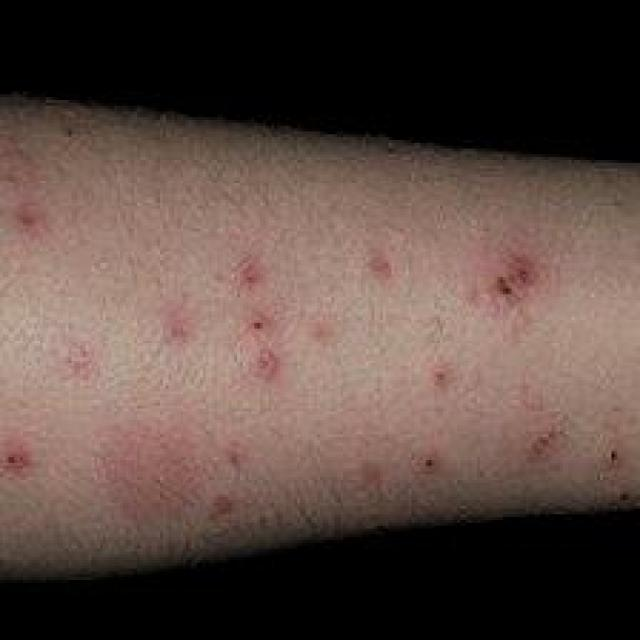others: (0, 77, 617, 509)
